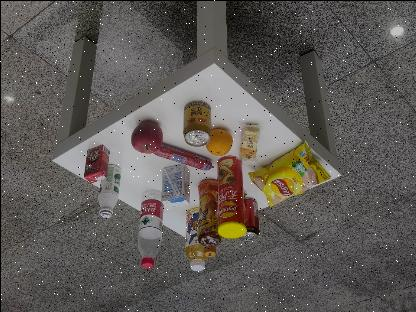Can: (182, 100, 210, 148), (238, 197, 260, 243)
Others: (214, 156, 247, 238), (156, 162, 192, 208), (82, 144, 112, 184)
Plastic Bottle: (134, 186, 167, 271)
